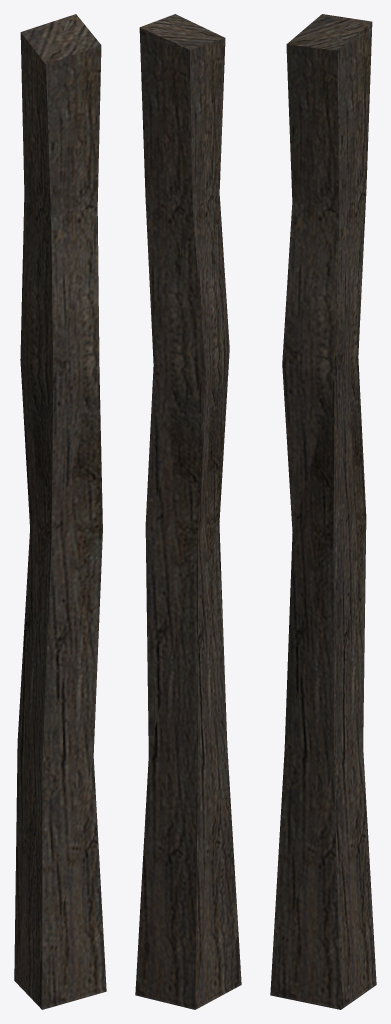
The model's file is Fence 2.fbx.
3 renders of one model, left to right at view 1: azimuth 30°, elevation 25°; view 2: azimuth 150°, elevation 25°; view 3: azimuth 330°, elevation 25°, orthographic.
Parts seen in each view (by area): view 1: Model; view 2: Model; view 3: Model.
Boxes of the visible parts, bbox=[...] form: Model: bbox=[14, 14, 106, 1009]; Model: bbox=[135, 14, 241, 1009]; Model: bbox=[270, 14, 376, 1009].
Bounding box in the file's own units: 6.23 × 83.34 × 5.84.
